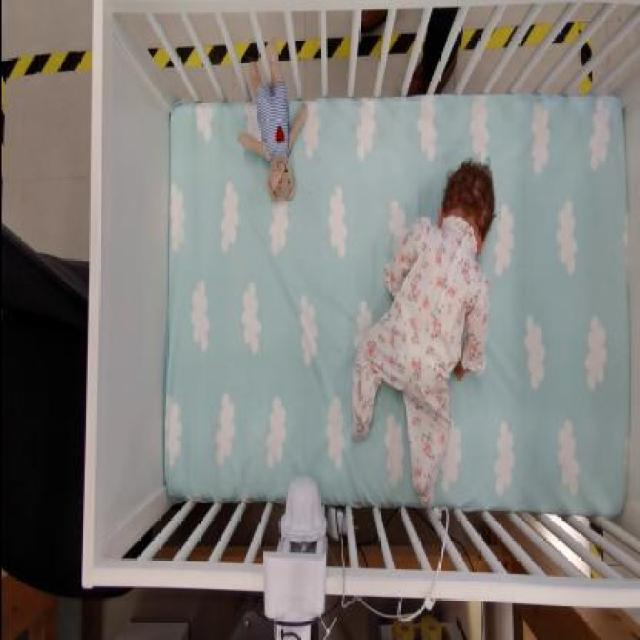baby: (352, 156, 500, 510)
